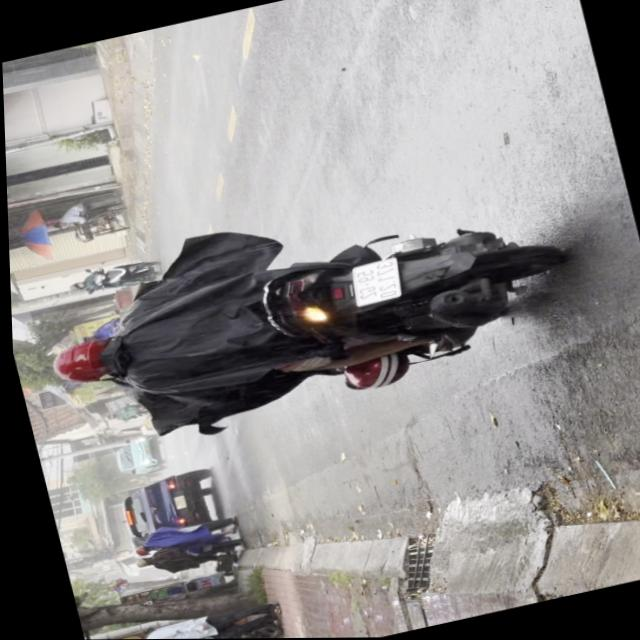helmet: (42, 330, 124, 390)
licenseplate: (19, 172, 592, 458)
nohelmet: (345, 256, 401, 305)
